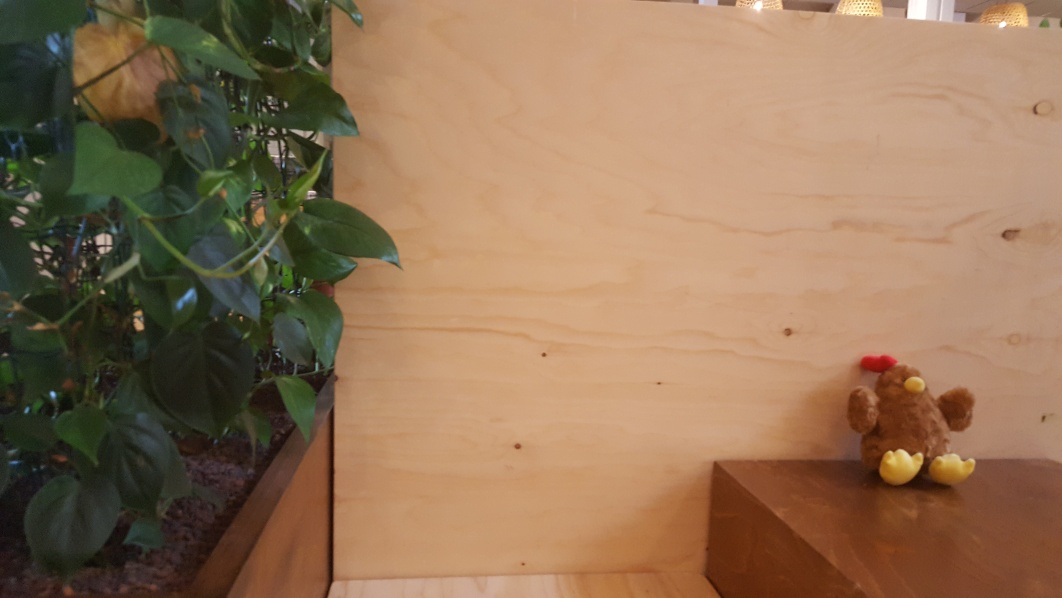chicken: (840, 346, 979, 489)
